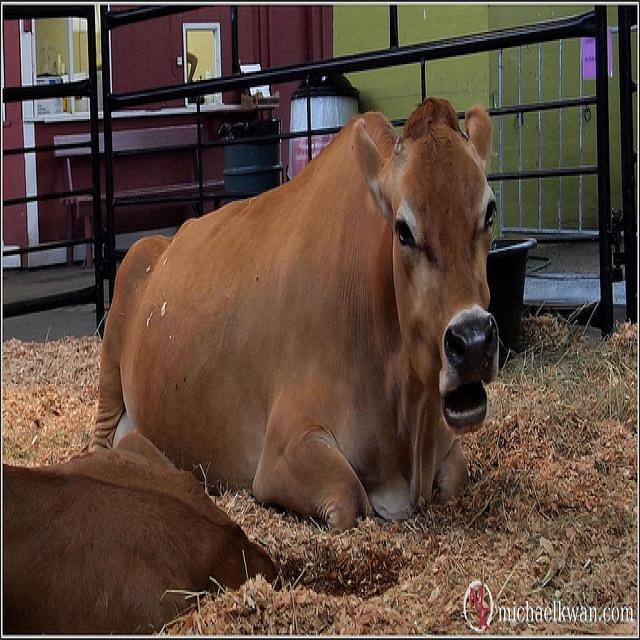cow: (88, 95, 501, 541), (0, 416, 297, 629)
